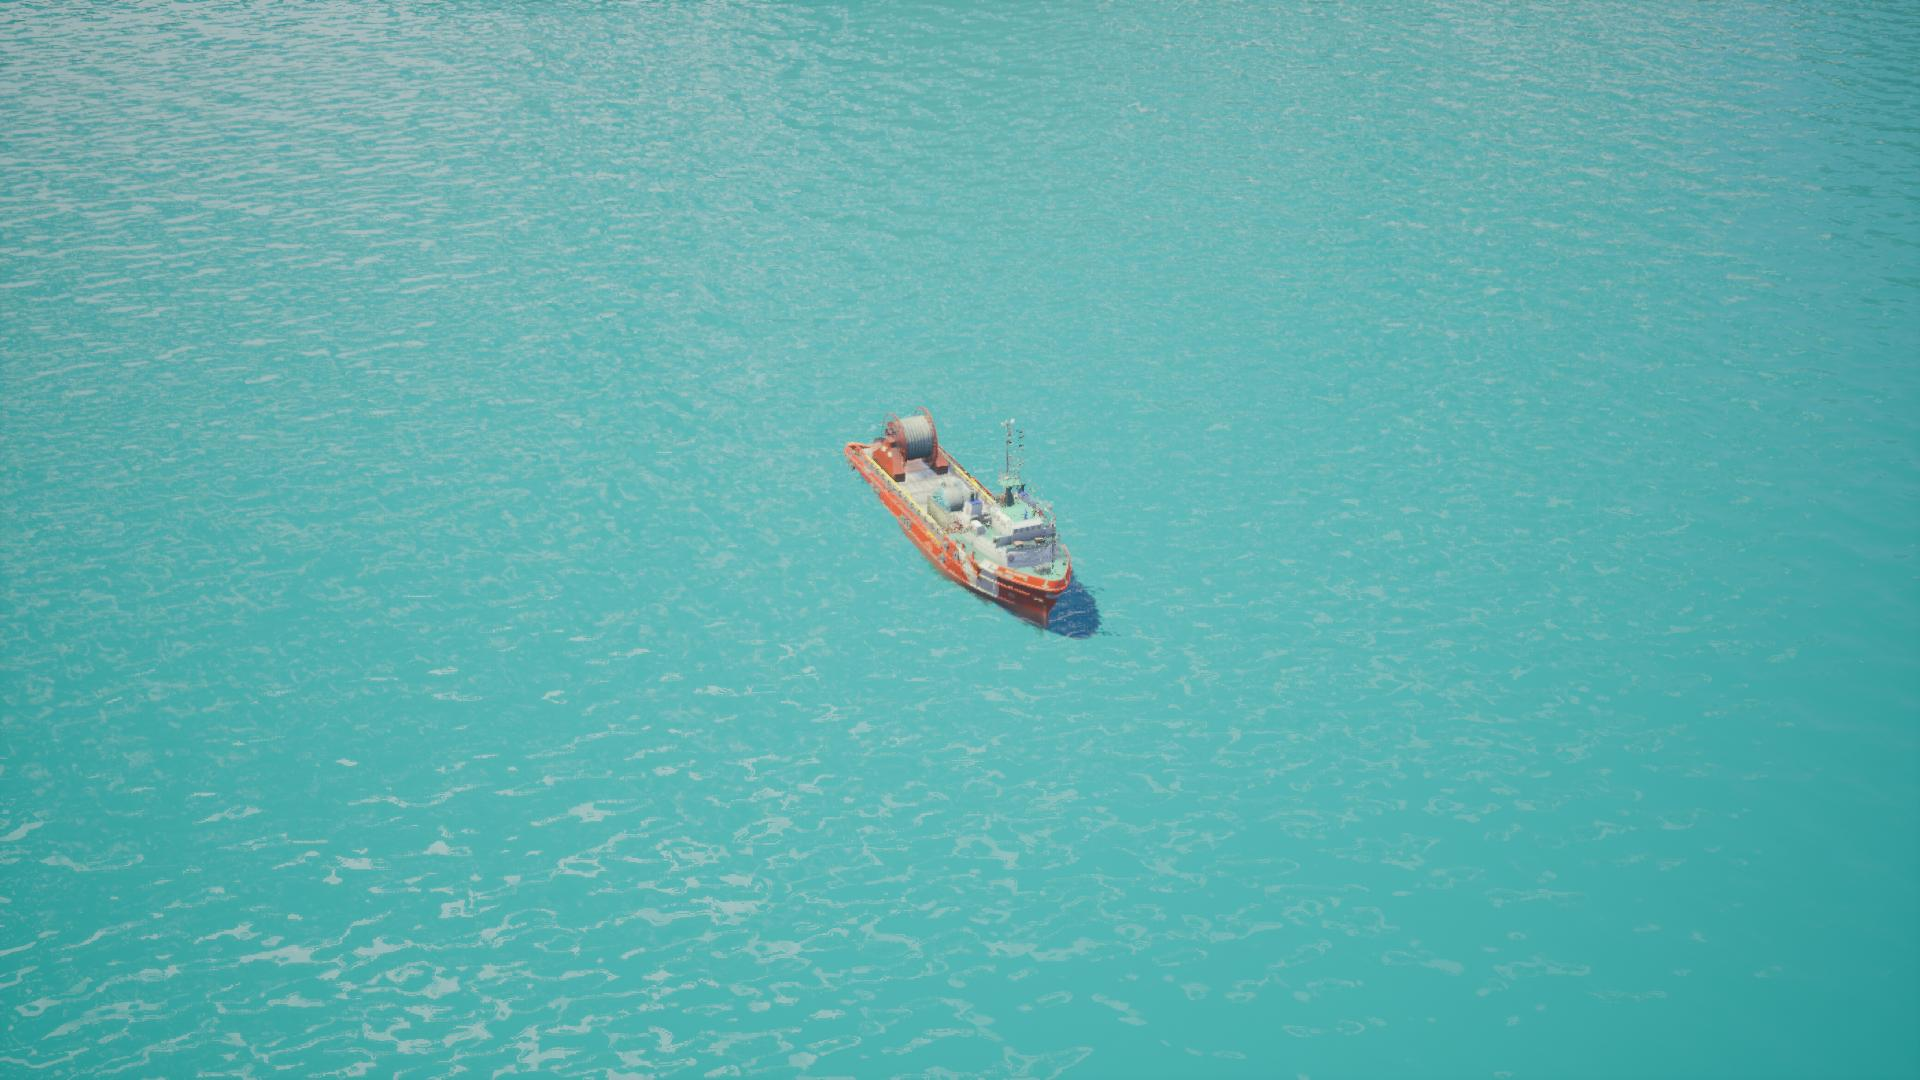Tug Boat: (816, 388, 1124, 644)
